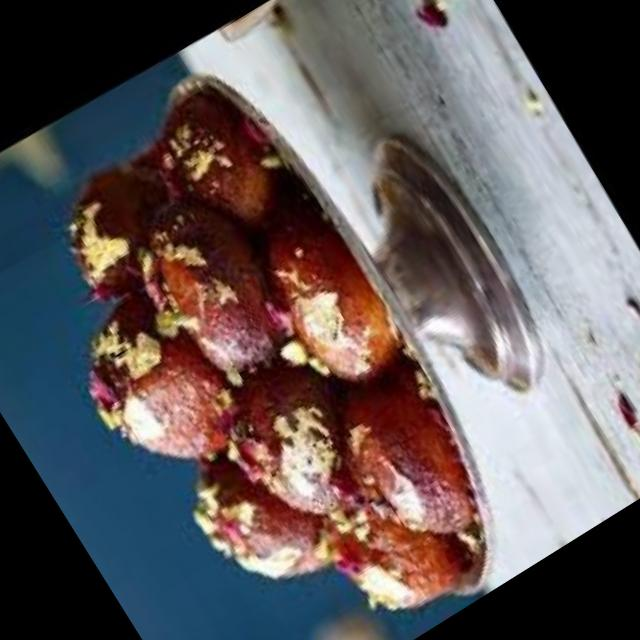gulab_jamun: (52, 262, 270, 494), (194, 323, 403, 542), (121, 165, 318, 388), (111, 61, 309, 268), (312, 346, 503, 558), (303, 437, 489, 630), (170, 414, 352, 607), (247, 202, 412, 390), (38, 141, 206, 312)
